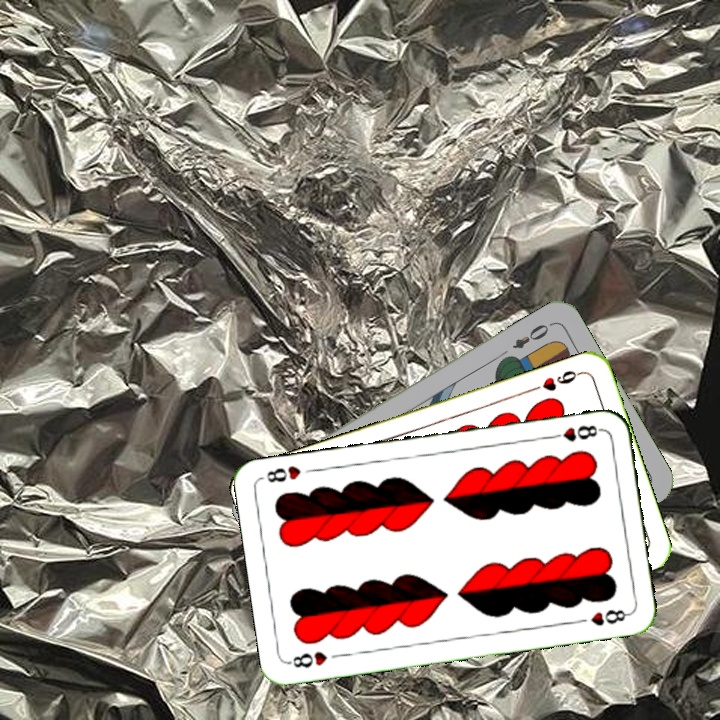EO: (508, 318, 555, 352)
H8: (545, 421, 604, 444), (285, 647, 330, 671)
H9: (528, 366, 585, 394)
